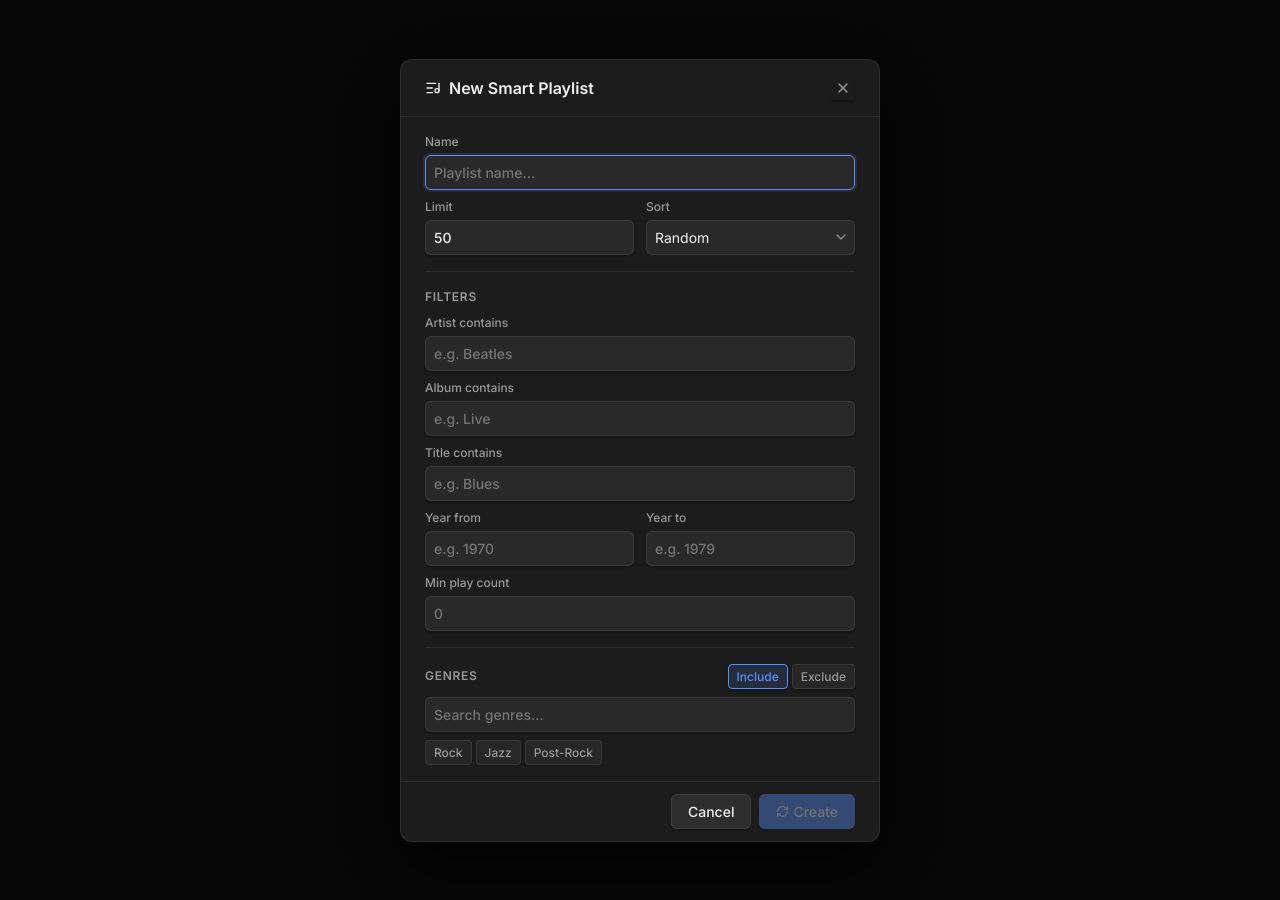
SmartPlaylistModal save gating › clears the save error when the next save starts
The width and height of the screenshot is (1280, 900).
In the field with placeholder "Playlist name…": coordinates (640, 172) x1=425 y1=154 x2=855 y2=190, type "Mix"
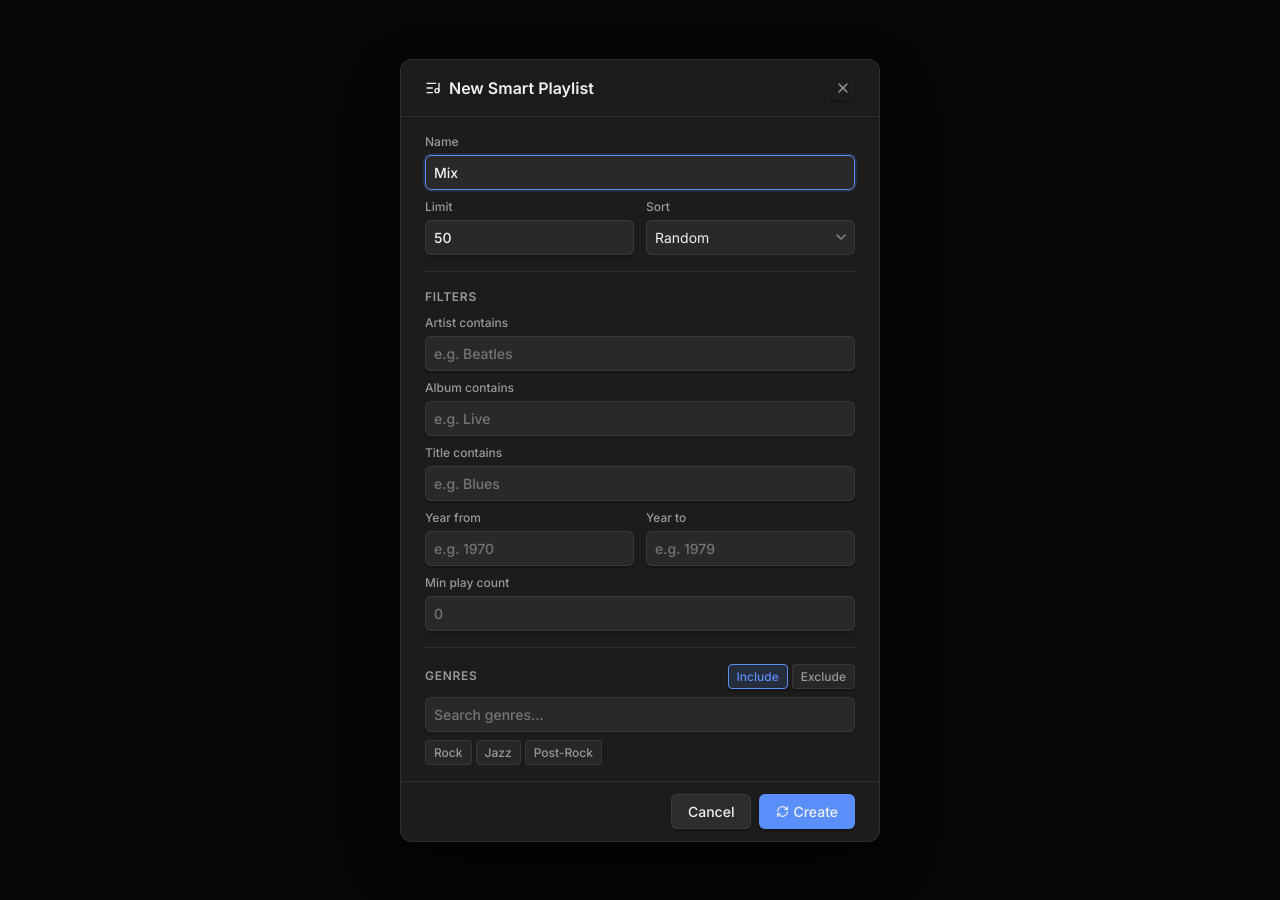
Click the button "Create": coordinates (807, 811) x1=759 y1=794 x2=855 y2=828
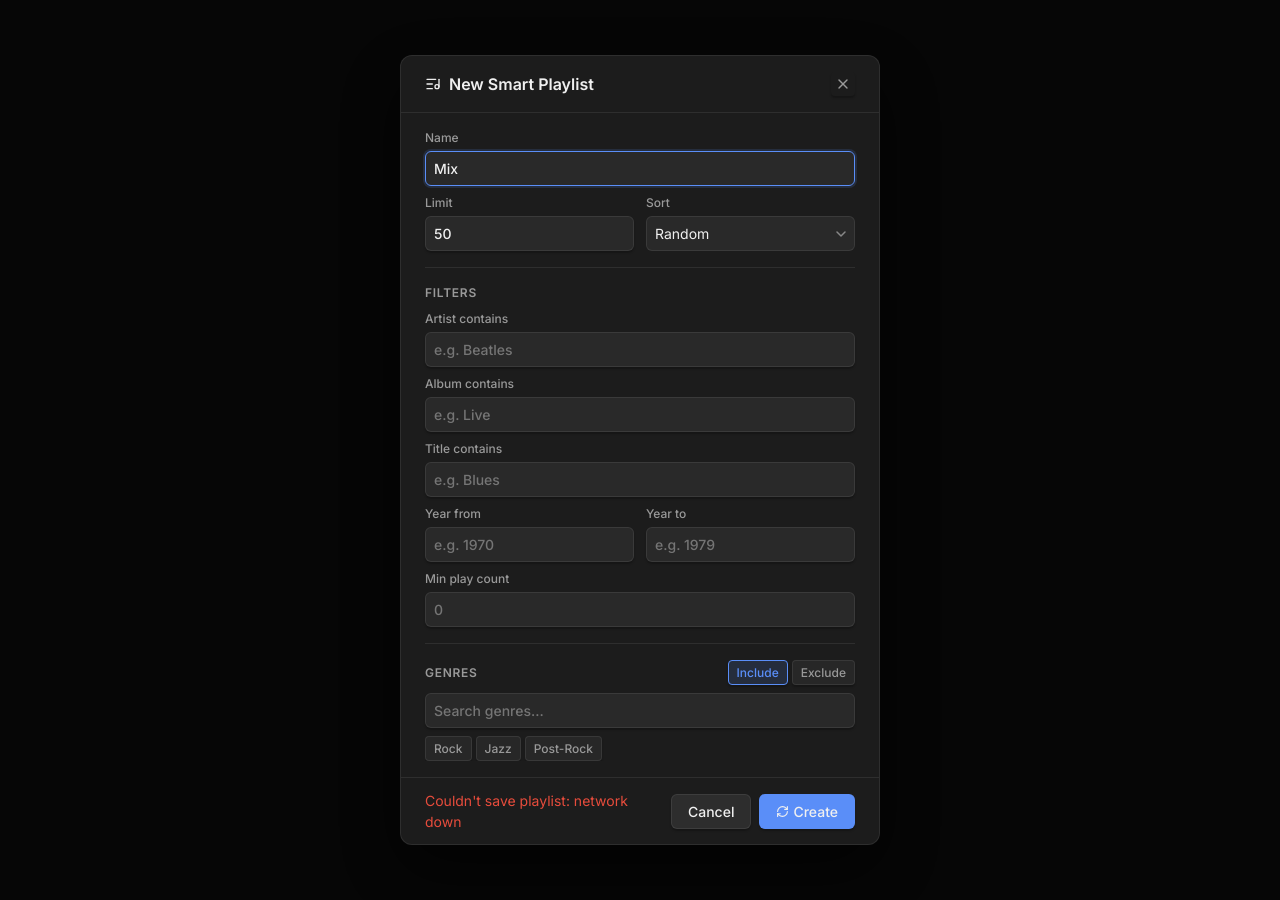
Expected: the message "Couldn't save playlist: network down" is shown, x1=425 y1=790 x2=663 y2=832
Click the button "Create": coordinates (807, 811) x1=759 y1=794 x2=855 y2=828
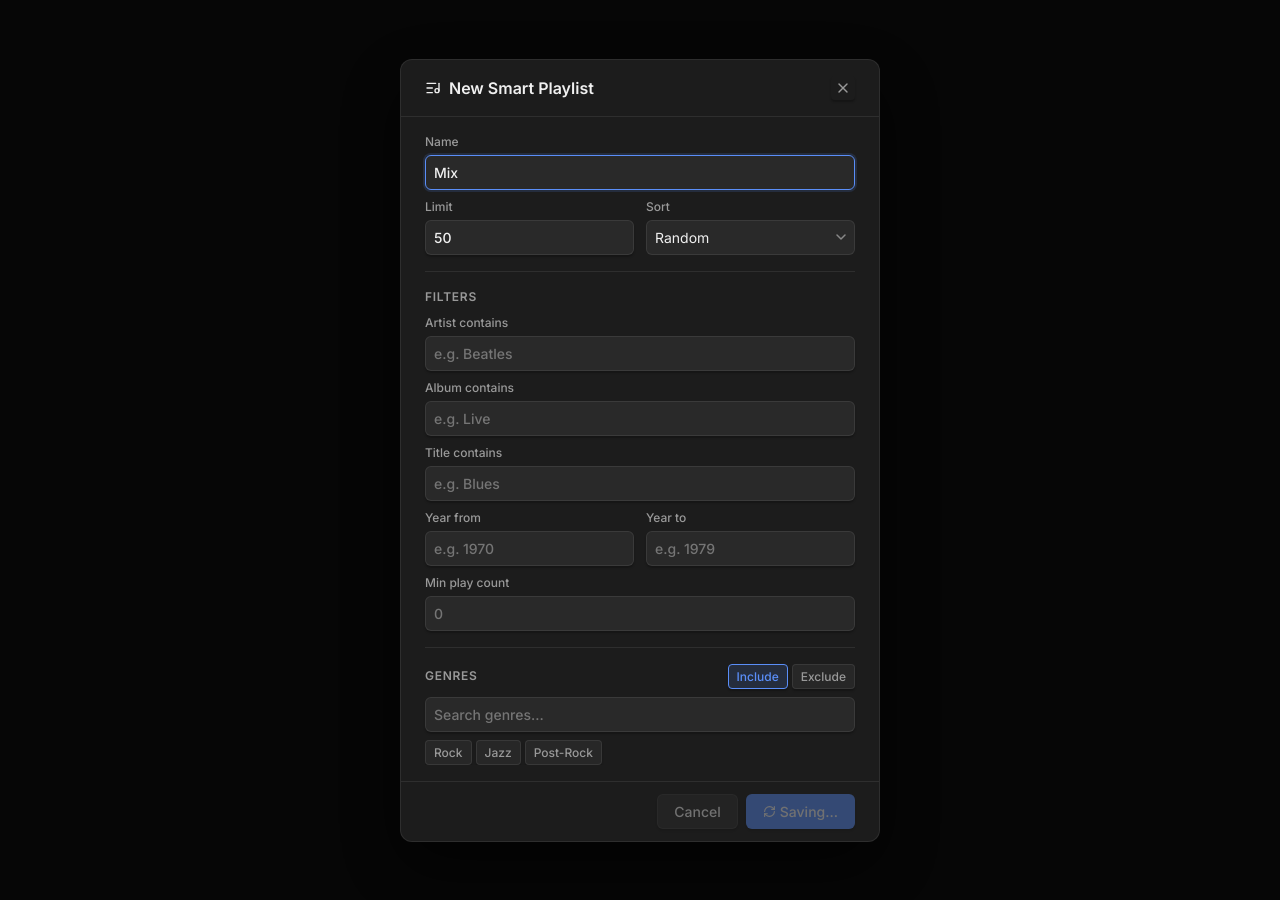
Expected: the message with class "spm-error" is gone
